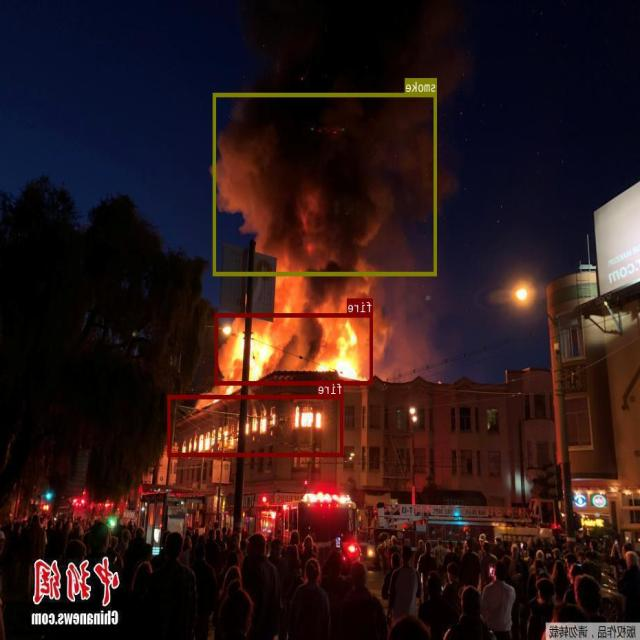fire: (216, 313, 373, 384), (168, 394, 344, 456)
smoke: (214, 92, 437, 276)
